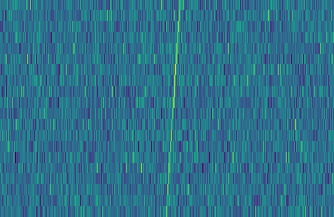signal: (161, 0, 184, 217)
